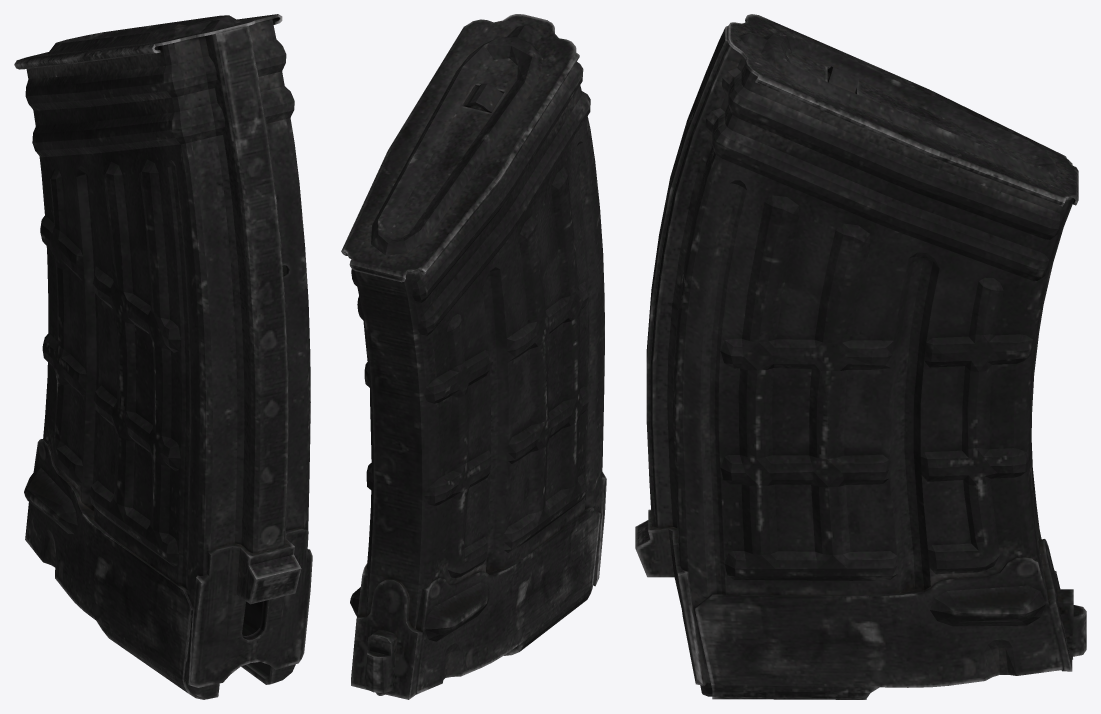
3 renders of one model, left to right at view 1: azimuth 30°, elevation 25°; view 2: azimuth 150°, elevation 25°; view 3: azimuth 270°, elevation 25°, orthographic. The views are drawn at different scales.
Parts seen in each view (by area): view 1: TW_5c88f24b2e22160bc12c69a6_PZ_Import; view 2: TW_5c88f24b2e22160bc12c69a6_PZ_Import; view 3: TW_5c88f24b2e22160bc12c69a6_PZ_Import.
Boxes of the visible parts, left/top/right/bottom form: TW_5c88f24b2e22160bc12c69a6_PZ_Import: left=14, top=14, right=312, bottom=699; TW_5c88f24b2e22160bc12c69a6_PZ_Import: left=341, top=14, right=606, bottom=699; TW_5c88f24b2e22160bc12c69a6_PZ_Import: left=635, top=14, right=1086, bottom=699.
Bounding box in the file's own units: 0.019 × 0.0577 × 0.0918.
Materials: 1 (1 with a texture image).
